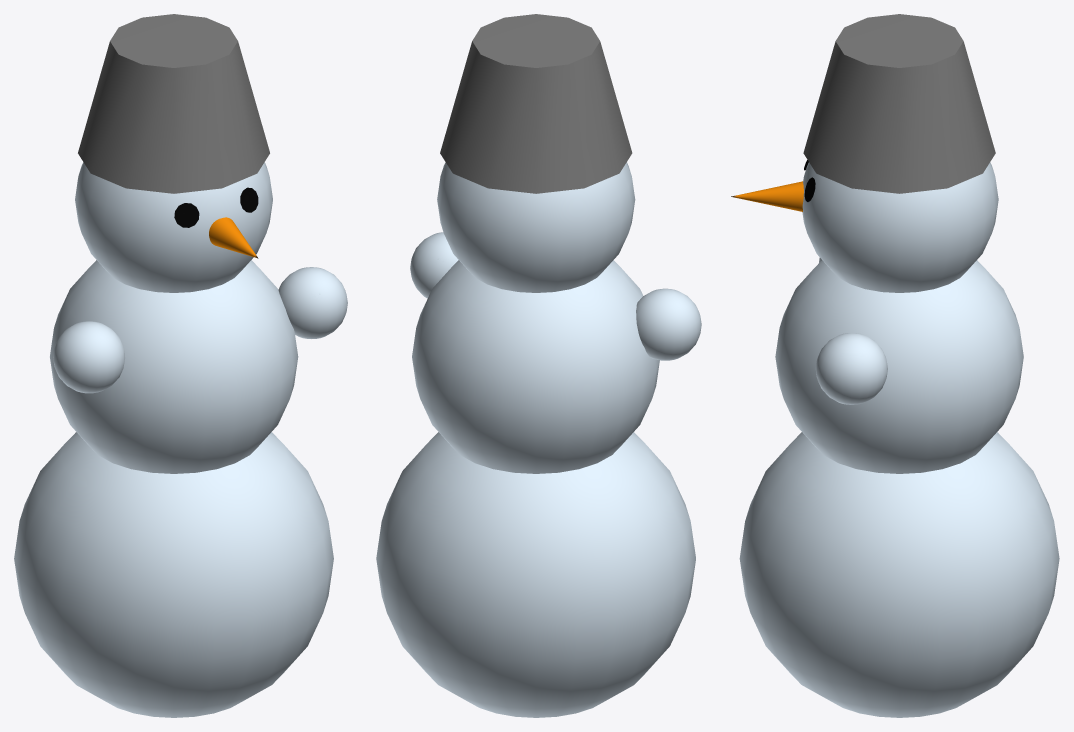
File: snowman.fbx
3 renders of one model, left to right at view 1: azimuth 30°, elevation 25°; view 2: azimuth 150°, elevation 25°; view 3: azimuth 270°, elevation 25°, orthographic.
Visible parts, largest first — view 1: Bottom, Top, bucket, Head, Right_Hand, Left_Hand, Nose; view 2: Bottom, Top, bucket, Head, Right_Hand, Left_Hand; view 3: Bottom, Top, bucket, Head, Left_Hand, Nose.
Part boxes in pixels (bbox=[...]): Bottom: bbox=[14, 432, 333, 717]; Top: bbox=[50, 260, 298, 473]; bucket: bbox=[78, 14, 269, 193]; Head: bbox=[75, 162, 272, 292]; Right_Hand: bbox=[53, 321, 124, 393]; Left_Hand: bbox=[278, 267, 347, 338]; Nose: bbox=[209, 217, 258, 258]; Bottom: bbox=[376, 432, 695, 717]; Top: bbox=[412, 260, 659, 473]; bucket: bbox=[440, 14, 632, 193]; Head: bbox=[437, 162, 635, 292]; Right_Hand: bbox=[636, 288, 701, 360]; Left_Hand: bbox=[410, 232, 458, 298]; Bottom: bbox=[739, 432, 1059, 717]; Top: bbox=[775, 260, 1023, 473]; bucket: bbox=[803, 14, 995, 193]; Head: bbox=[802, 162, 998, 292]; Left_Hand: bbox=[815, 333, 887, 404]; Nose: bbox=[731, 181, 803, 211].
Size of the model in its own units: 205 by 457 by 206.
